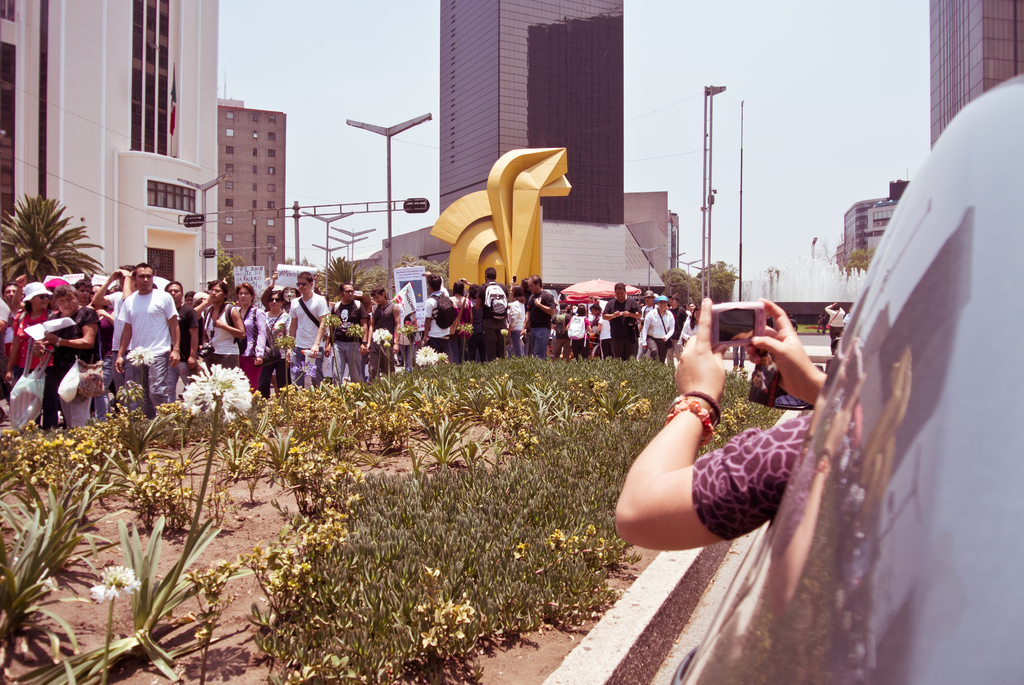Human_hand: (746, 310, 825, 390), (673, 298, 728, 403), (168, 348, 182, 371), (33, 341, 47, 358), (114, 354, 124, 377), (120, 266, 135, 280), (4, 371, 17, 387), (44, 332, 58, 345), (110, 267, 123, 281), (252, 356, 264, 370), (309, 343, 320, 357), (186, 357, 196, 371), (211, 319, 224, 329), (324, 345, 333, 359), (204, 297, 216, 306), (358, 345, 367, 357), (534, 297, 544, 306)
